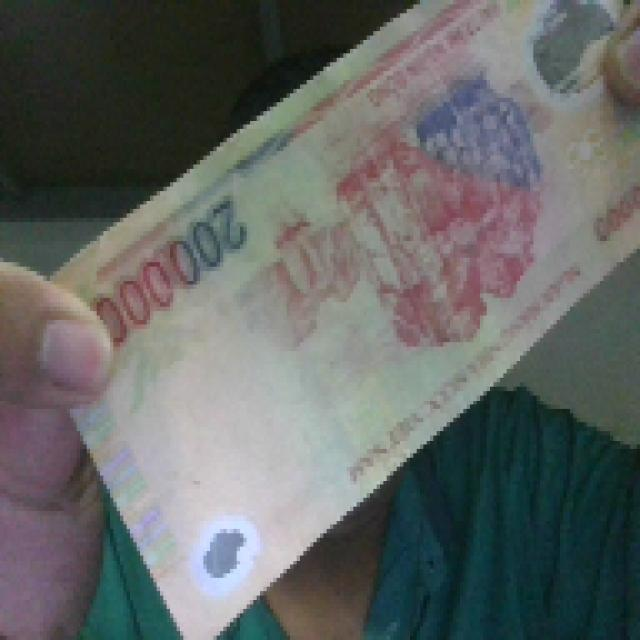200 000 VND: (43, 0, 637, 636)
